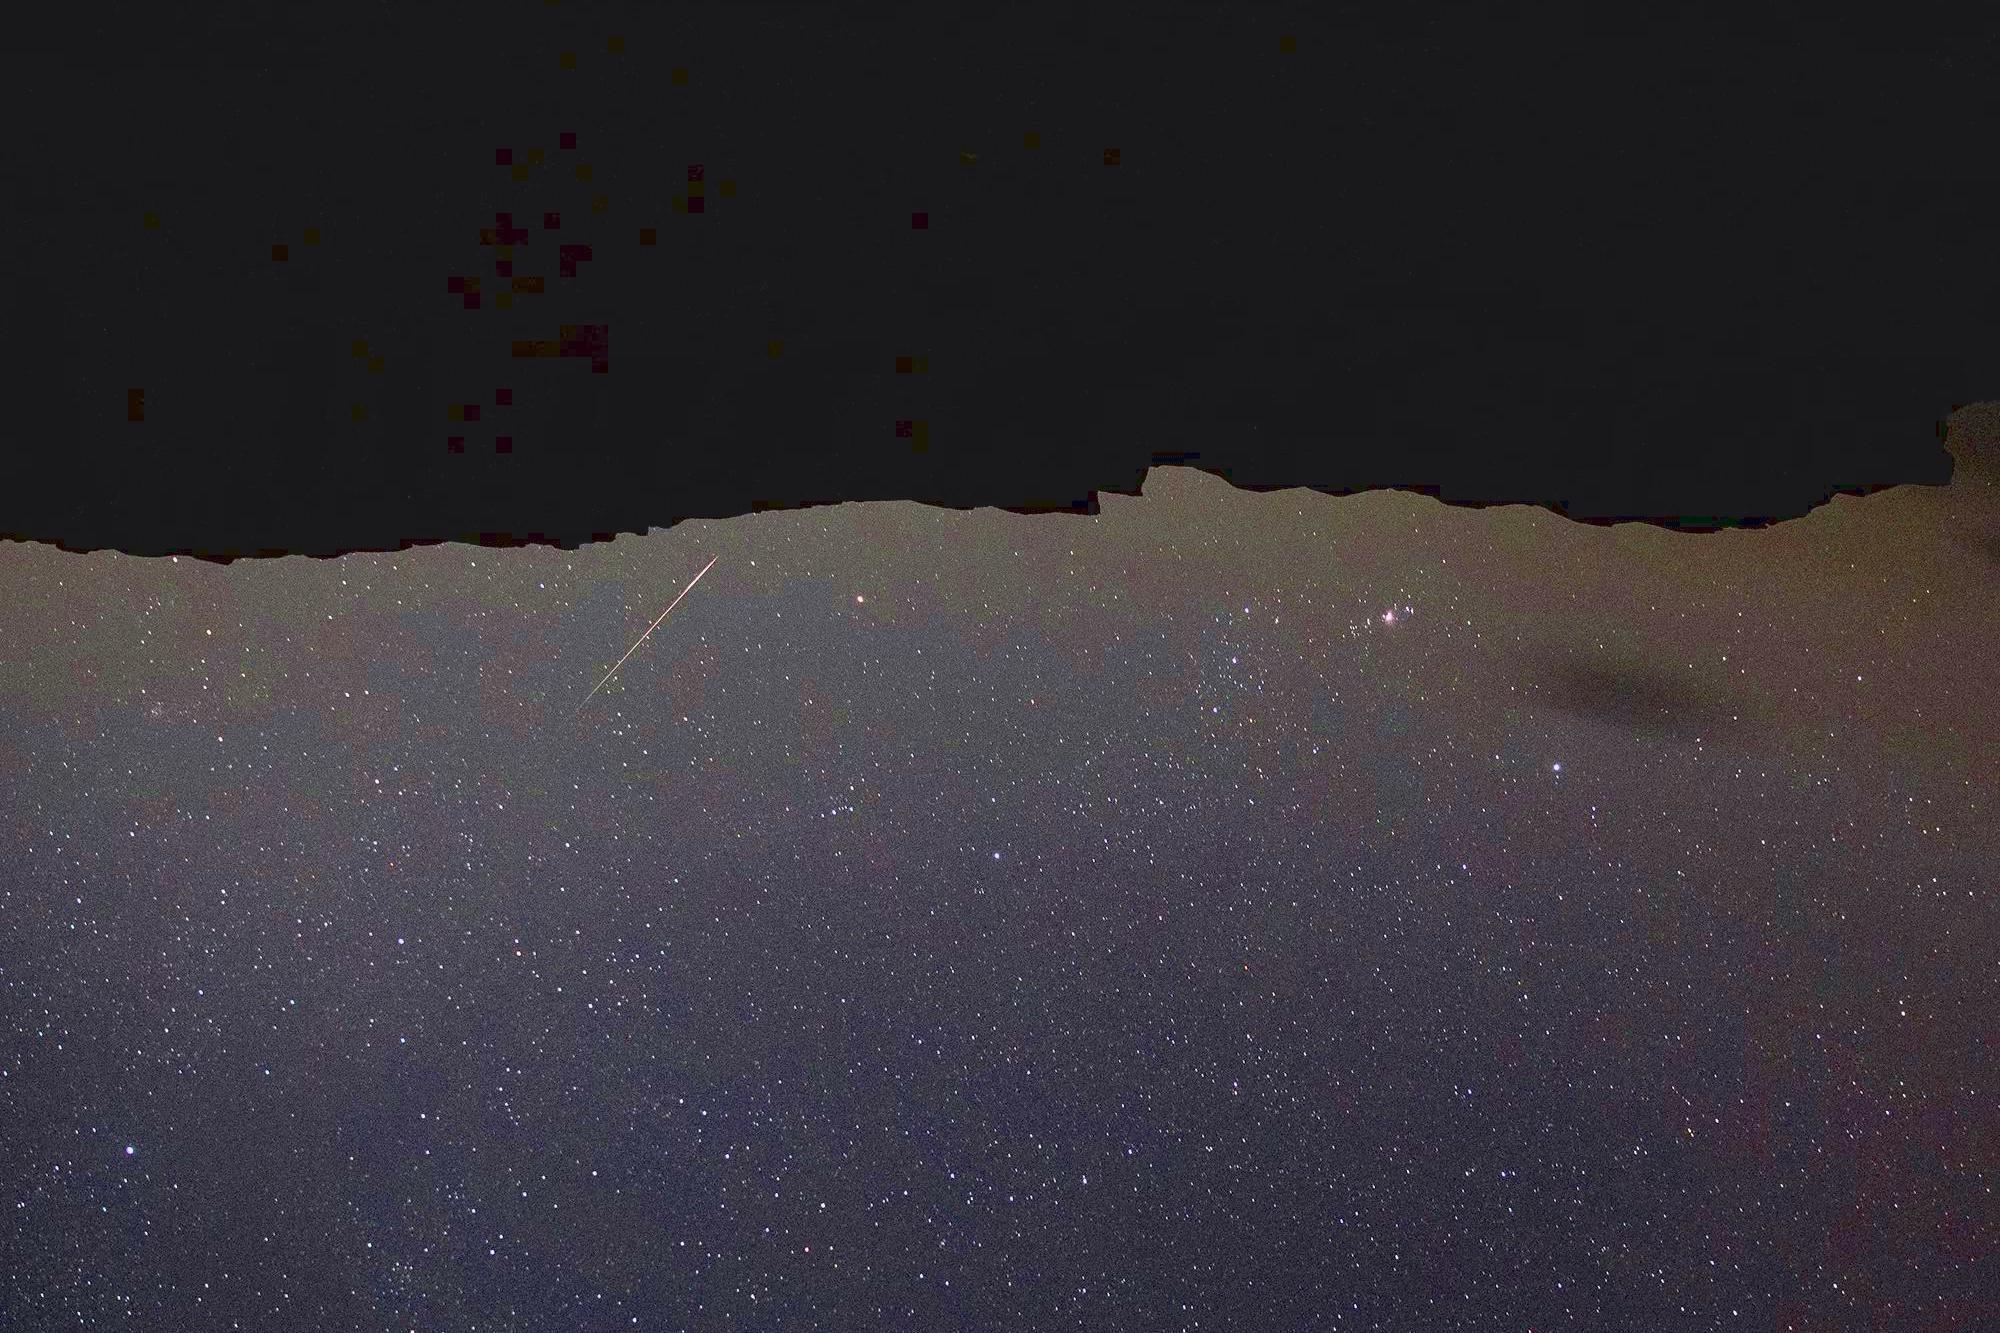meteorite: (570, 545, 763, 729)
